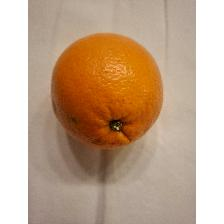Mandarine: (48, 30, 166, 152)
